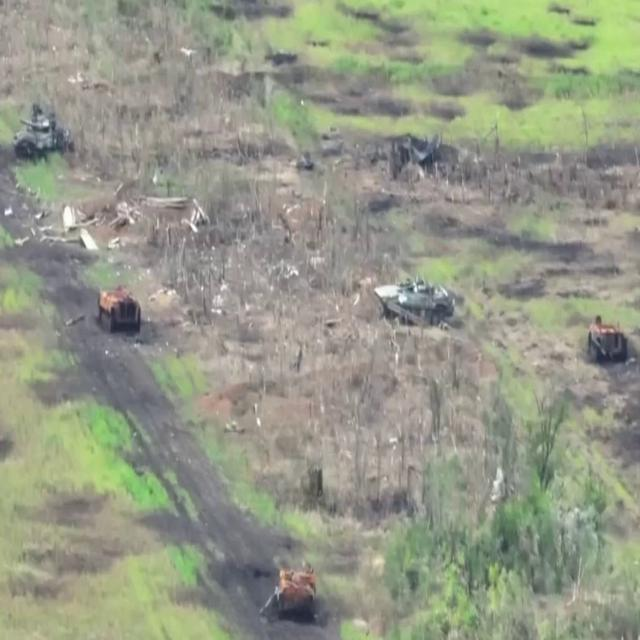AIFV: (375, 274, 458, 328), (272, 566, 320, 619), (95, 286, 144, 337), (587, 316, 630, 368)
MBT: (13, 109, 74, 167)
